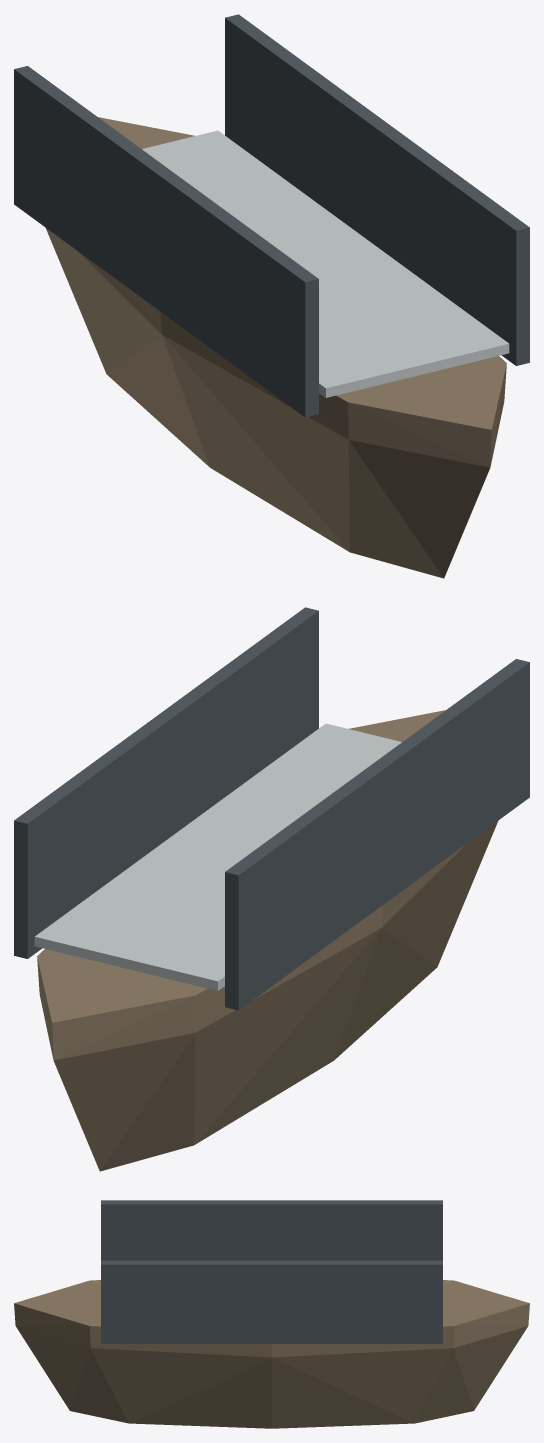
File: frozen_barge.glb
3 renders of one model, top to bottom at view 1: azimuth 30°, elevation 25°; view 2: azimuth 150°, elevation 25°; view 3: azimuth 270°, elevation 25°, orthographic. The views are drawn at different scales.
Parts seen in each view (by area): view 1: frozen_barge; view 2: frozen_barge; view 3: frozen_barge.
Part boxes in pixels (box(x1,y1,x2,y2)): frozen_barge: box(14, 14, 529, 578); frozen_barge: box(14, 607, 529, 1171); frozen_barge: box(14, 1200, 529, 1428).
Bounding box in the file's own units: 0.8501 × 1.1 × 2.88.
